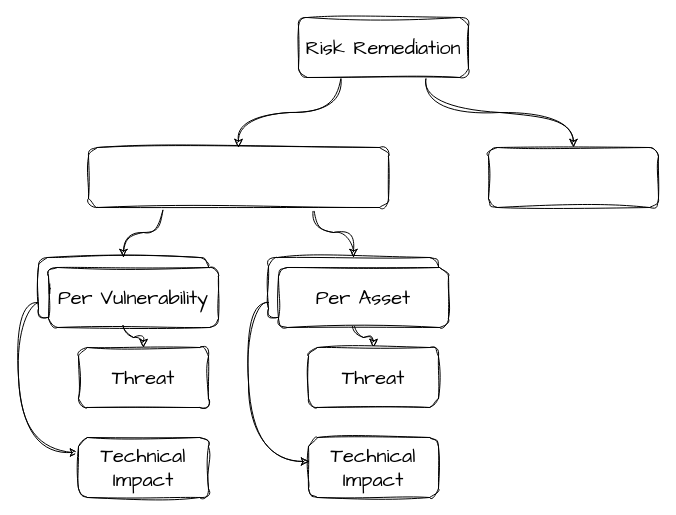
The diagram is 676 pixels wide and 515 high, and some of its shapes have lost their labels. The shapes that lost their labels are listed below. From the top down, each one's centre as x and y in pixels, then its label:
pixel 238 177: Risk
pixel 573 177: Remediation
